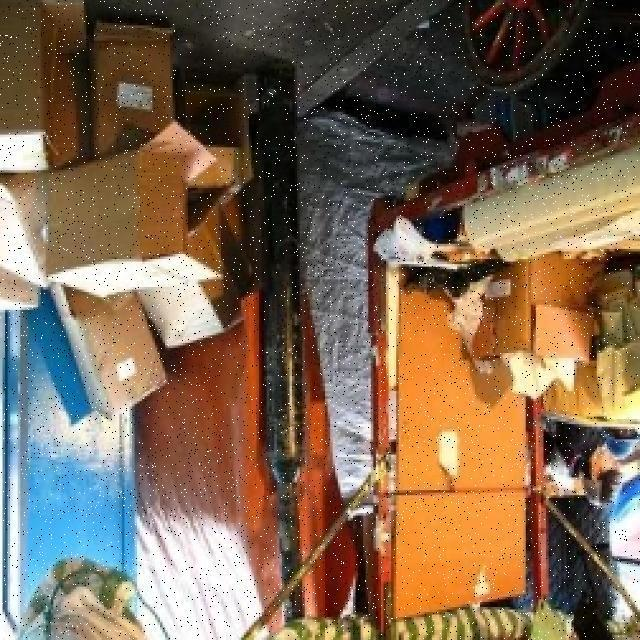box: (396, 274, 531, 488), (48, 162, 202, 284), (138, 206, 250, 350), (387, 494, 525, 599), (51, 272, 160, 401), (0, 0, 76, 170), (79, 20, 170, 160), (491, 251, 595, 360), (0, 152, 56, 300), (182, 90, 248, 192)
